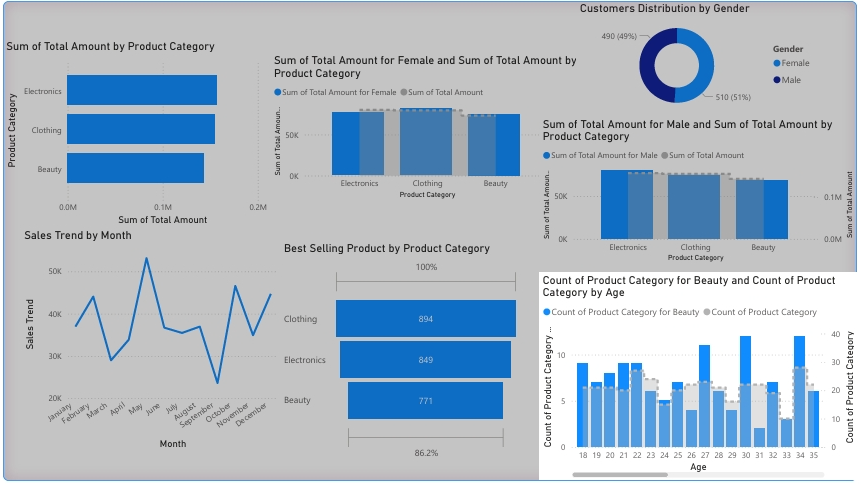

The page's visual inventory and layout, read from the dashboard file:
{"tool":"powerbi","page":{"name":"Page 1","canvas":[1280,720],"ordinal":0},"visuals":[{"type":"clusteredBarChart","fields":{"Category":["retail_sales_dataset.Product Category"],"Y":["Sum(retail_sales_dataset.Total Amount)"]},"box":[0,57.1,401.5,283.9],"z":0},{"type":"lineClusteredColumnComboChart","fields":{"Category":["retail_sales_dataset.Product Category"],"Y2":["Sum(retail_sales_dataset.Total Amount)"],"Y":["FilteredEval(Sum(retail_sales_dataset.Total Amount), [{Condition(expr)}])"]},"box":[401.5,79,477.1,221.7],"z":1000},{"type":"lineClusteredColumnComboChart","fields":{"Category":["retail_sales_dataset.Product Category"],"Y2":["Sum(retail_sales_dataset.Total Amount)"],"Y":["FilteredEval(Sum(retail_sales_dataset.Total Amount), [{Condition(expr)}])"]},"box":[803.5,174.2,476.6,221.8],"z":2000},{"type":"lineChart","fields":{"Category":["retail_sales_dataset.Date.Variation.Date Hierarchy.Month"],"Y":["Sum(retail_sales_dataset.Total Amount)"]},"box":[26.9,341,389.7,336],"z":3000},{"type":"donutChart","fields":{"Category":["retail_sales_dataset.Gender"],"Y":["CountNonNull(retail_sales_dataset.Customer ID)"]},"box":[859.7,0,365.8,174.2],"z":4000},{"type":"funnel","fields":{"Category":["retail_sales_dataset.Product Category"],"Y":["Sum(retail_sales_dataset.Quantity)"]},"box":[416.2,360,361.4,335.5],"z":5000},{"type":"textbox","box":[0,0,1280.2,720],"z":6000},{"type":"lineClusteredColumnComboChart","fields":{"Category":["retail_sales_dataset.Age"],"Y2":["CountNonNull(retail_sales_dataset.Product Category)"],"Y":["FilteredEval(CountNonNull(retail_sales_dataset.Product Category), [{Condition(expr)}])"]},"box":[803.5,407.5,476.6,312.5],"z":7001}]}

Visuals, with their boxes in screenshot pixels (x1, y1, x2, y2), scaled from the page's 1280x720 canvas onto the 862x484 screenshot:
clusteredBarChart - retail_sales_dataset.Product Category x Sum(retail_sales_dataset.Total Amount): locate(0, 38, 270, 229)
lineClusteredColumnComboChart - retail_sales_dataset.Product Category x Sum(retail_sales_dataset.Total Amount): locate(270, 53, 592, 202)
lineClusteredColumnComboChart - retail_sales_dataset.Product Category x Sum(retail_sales_dataset.Total Amount): locate(541, 117, 861, 266)
lineChart - retail_sales_dataset.Date.Variation.Date Hierarchy.Month x Sum(retail_sales_dataset.Total Amount): locate(18, 229, 281, 455)
donutChart - retail_sales_dataset.Gender x CountNonNull(retail_sales_dataset.Customer ID): locate(579, 0, 825, 117)
funnel - retail_sales_dataset.Product Category x Sum(retail_sales_dataset.Quantity): locate(280, 242, 524, 468)
textbox: locate(0, 0, 861, 483)
lineClusteredColumnComboChart - retail_sales_dataset.Age x CountNonNull(retail_sales_dataset.Product Category): locate(541, 274, 861, 483)
